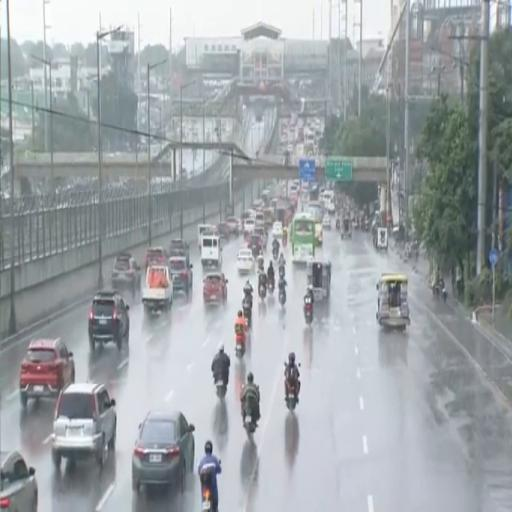bus: (290, 214, 317, 263), (306, 201, 324, 245), (309, 184, 318, 201)
car: (52, 382, 116, 468), (132, 411, 194, 492), (20, 339, 75, 407), (89, 291, 129, 350), (0, 451, 38, 511), (111, 253, 140, 296), (170, 258, 193, 296), (203, 272, 227, 303), (168, 239, 190, 263), (146, 248, 168, 269), (237, 249, 254, 274), (248, 234, 263, 257), (253, 227, 267, 249), (170, 239, 189, 251), (227, 217, 239, 235), (218, 223, 230, 241), (272, 221, 282, 238), (244, 218, 255, 233), (255, 211, 264, 227), (322, 214, 331, 229), (328, 202, 335, 214)
motorcycle: (200, 467, 215, 511), (243, 405, 255, 439), (285, 378, 297, 410), (236, 326, 245, 358), (215, 375, 226, 398), (242, 299, 251, 327), (304, 298, 312, 325), (236, 341, 245, 358), (279, 288, 286, 306), (259, 281, 266, 299), (432, 284, 440, 298), (268, 279, 274, 294), (273, 246, 279, 261), (442, 285, 447, 302), (279, 265, 285, 279), (336, 218, 340, 230)
truck: (142, 265, 173, 313)
